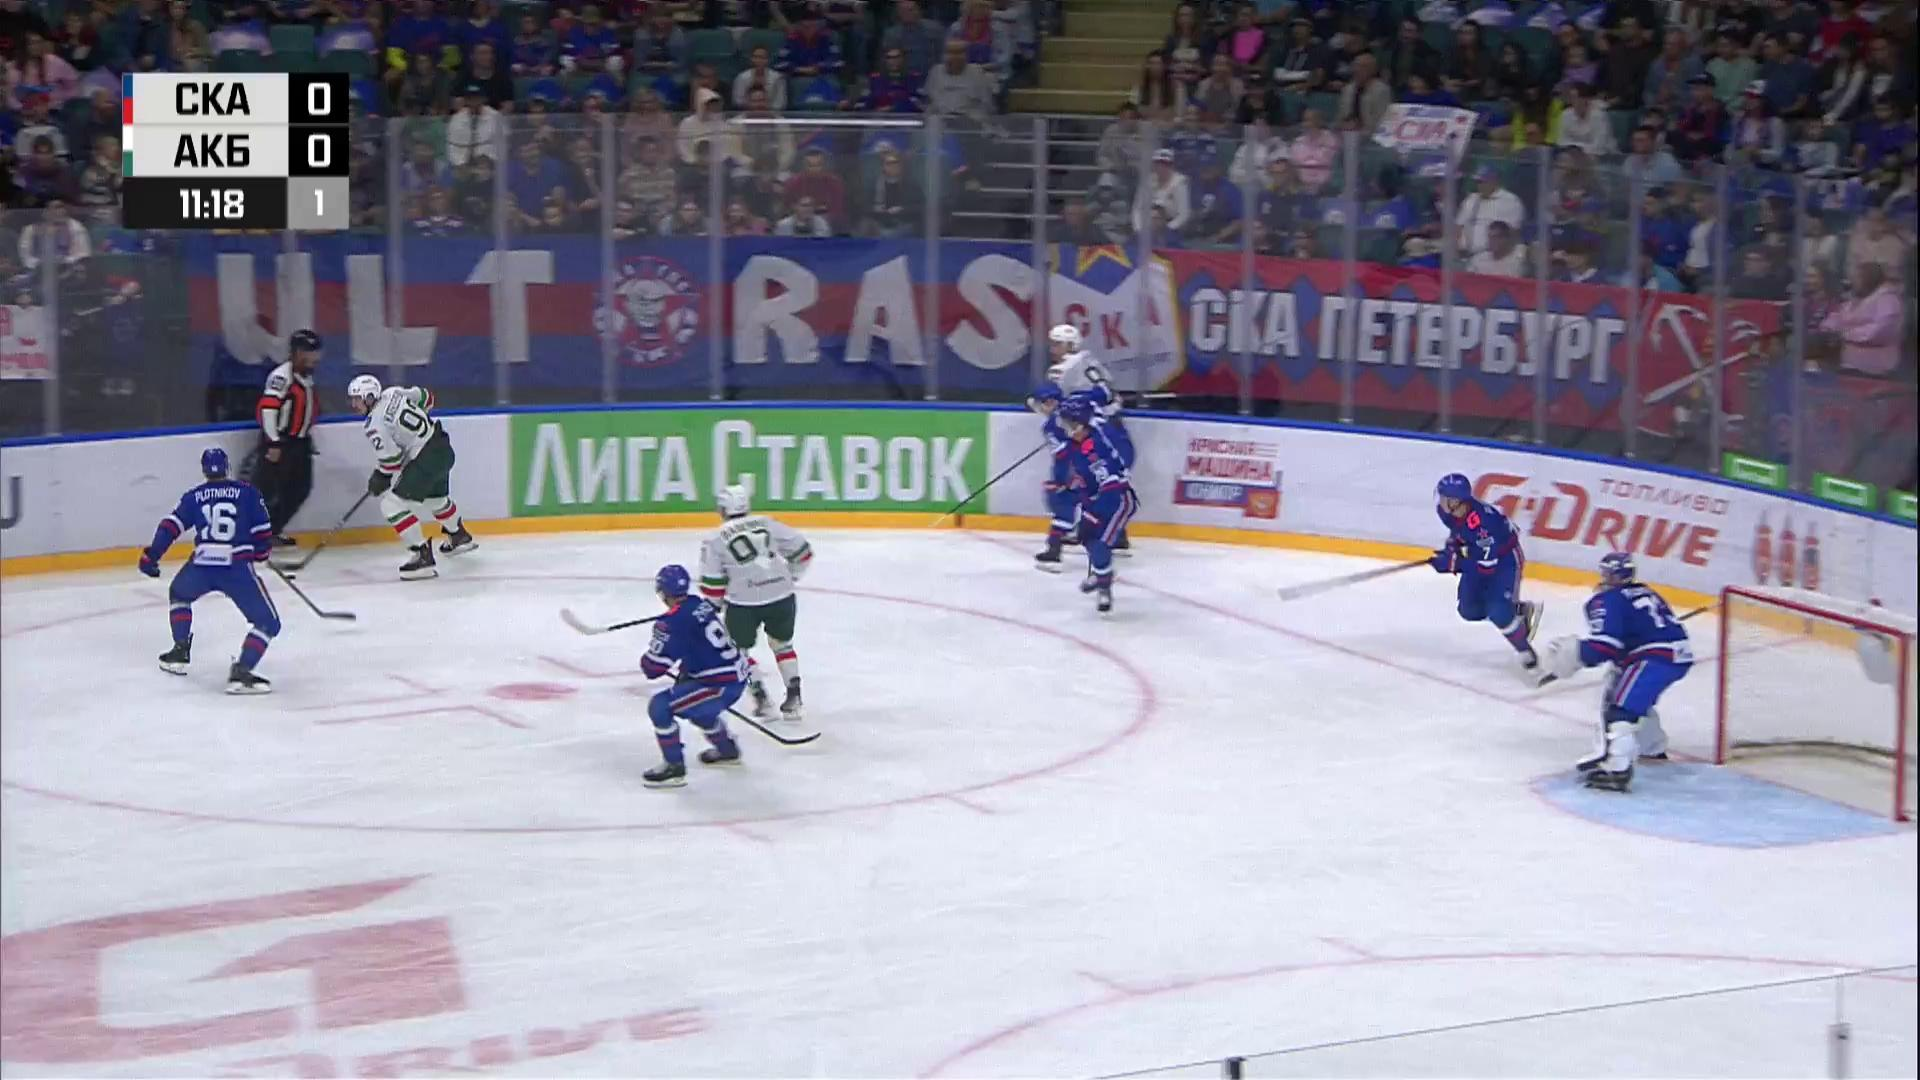ball: (285, 574, 297, 580)
